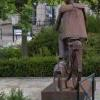Statue: (49, 0, 89, 77)
